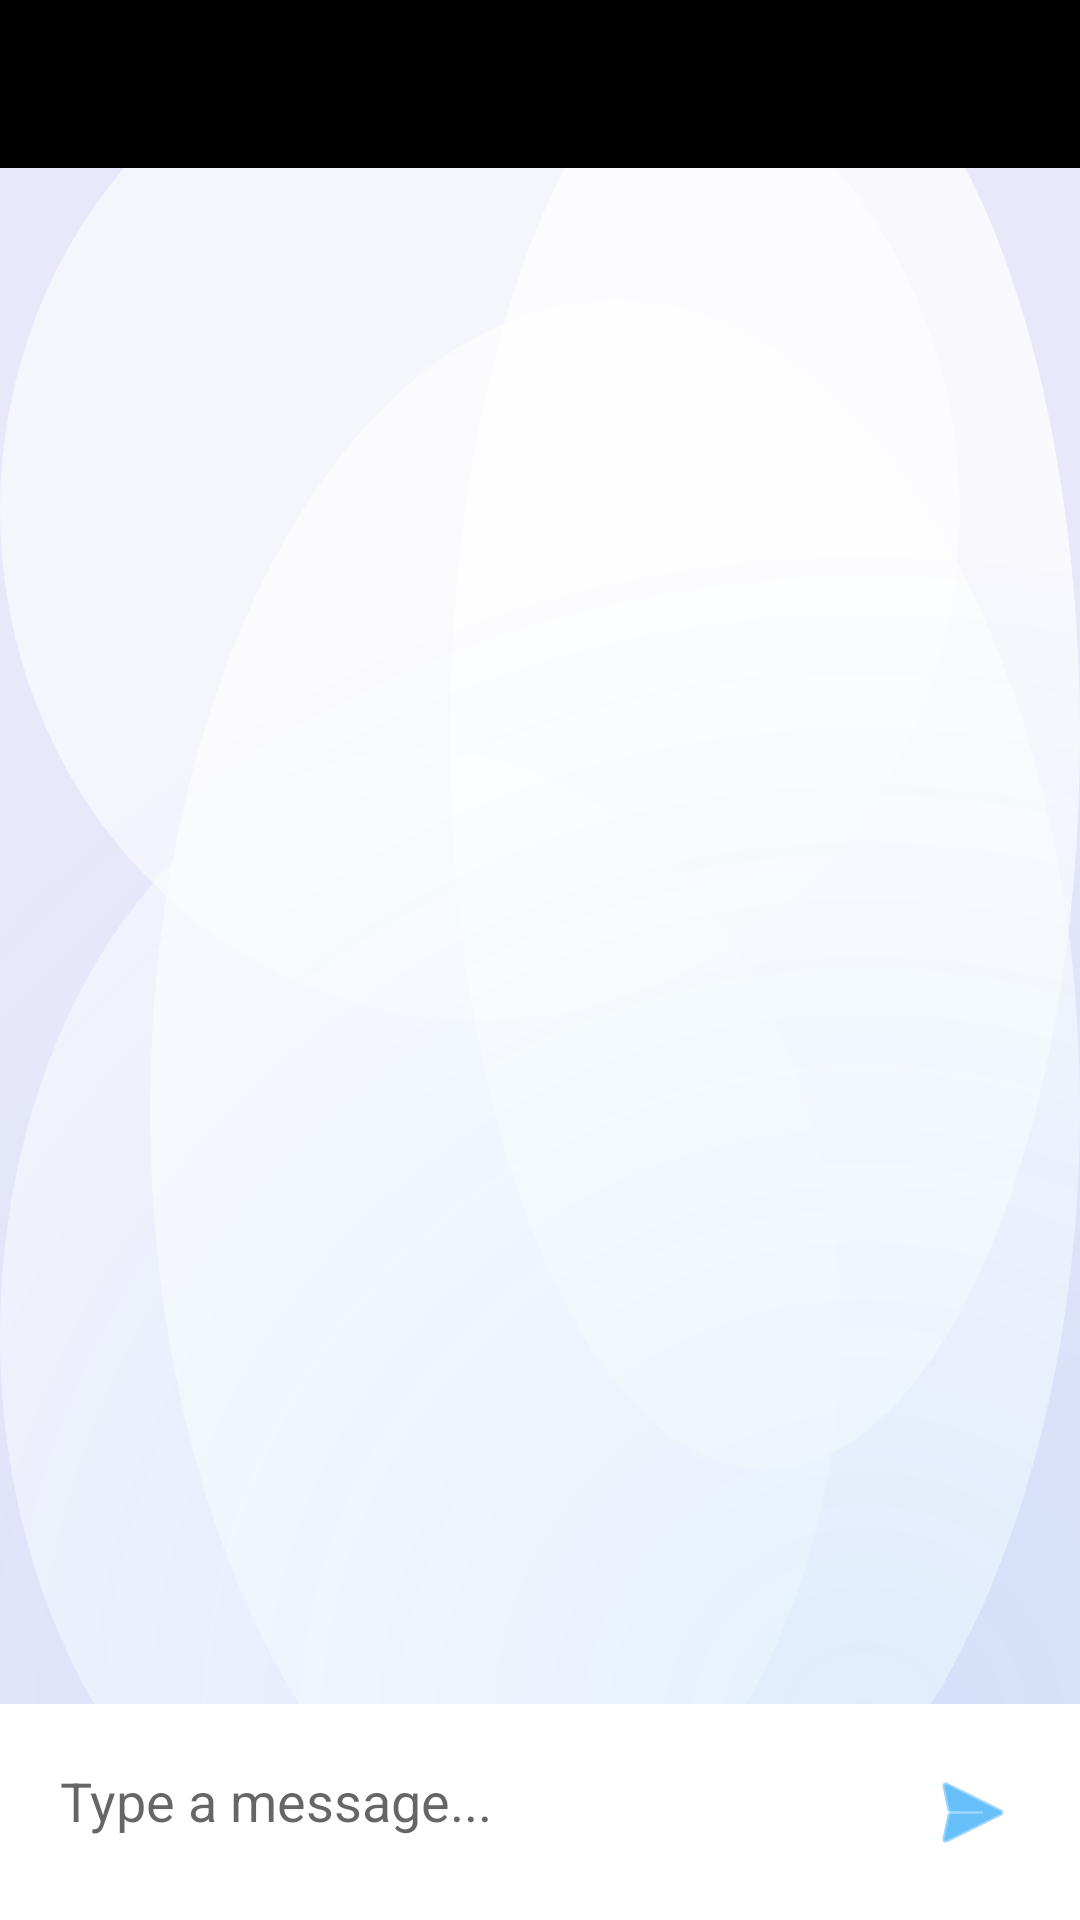

Screen size 1080x1920. Icon name, then its box in pixels as rect(x1, y1, x2, y2):
send: rect(942, 1782, 1004, 1843)
